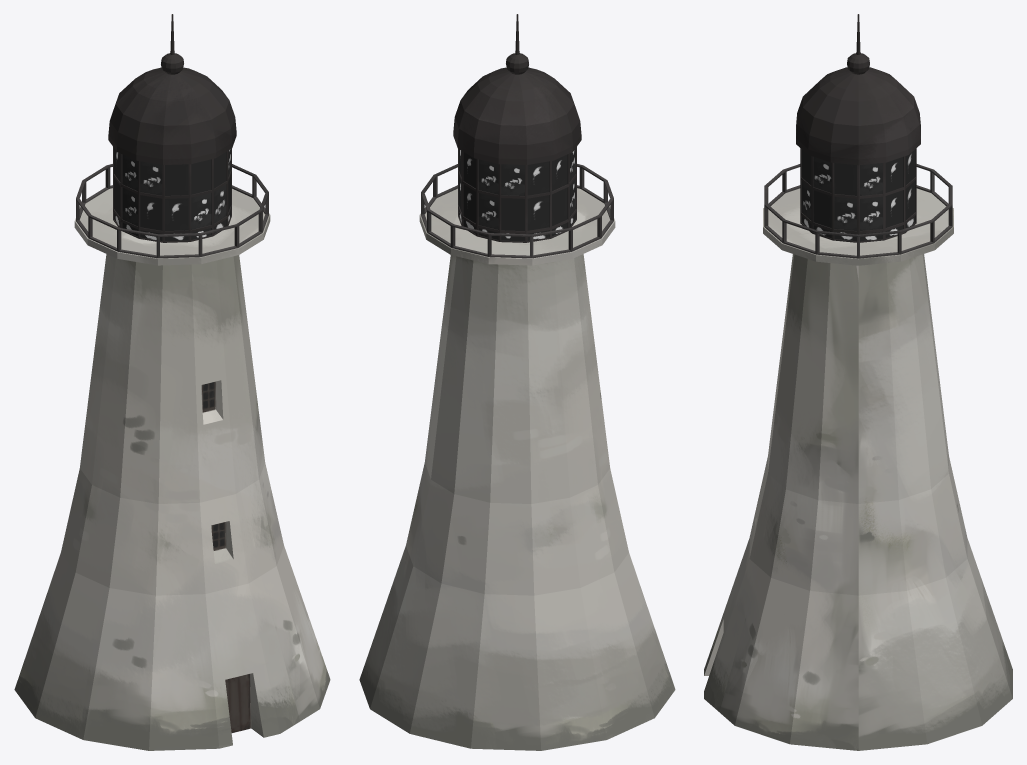
File: lighthouse_exteriorONLY_NEW.fbx
3 views of the same model, side by side, from view 1: azimuth 30°, elevation 25°; view 2: azimuth 150°, elevation 25°; view 3: azimuth 270°, elevation 25° (orthographic).
Parts seen in each view (by area): view 1: lighthouse_exterior, lighthouse_exterior_dome, lighthouse_exterior_windows, lighthouse_exterior_frames; view 2: lighthouse_exterior, lighthouse_exterior_dome, lighthouse_exterior_windows, lighthouse_exterior_frames; view 3: lighthouse_exterior, lighthouse_exterior_dome, lighthouse_exterior_windows, lighthouse_exterior_frames.
Part boxes in pixels (x1,y1,x2,y2): lighthouse_exterior: (14,164,330,750); lighthouse_exterior_dome: (108,14,236,164); lighthouse_exterior_windows: (114,148,230,241); lighthouse_exterior_frames: (113,147,231,242); lighthouse_exterior: (359,164,675,750); lighthouse_exterior_dome: (453,14,581,164); lighthouse_exterior_windows: (459,148,575,241); lighthouse_exterior_frames: (458,147,576,242); lighthouse_exterior: (704,164,1012,750); lighthouse_exterior_dome: (796,14,920,165); lighthouse_exterior_windows: (801,149,915,241); lighthouse_exterior_frames: (800,148,916,242).
Bounding box in the file's own units: 19814 × 46241 × 19320.
